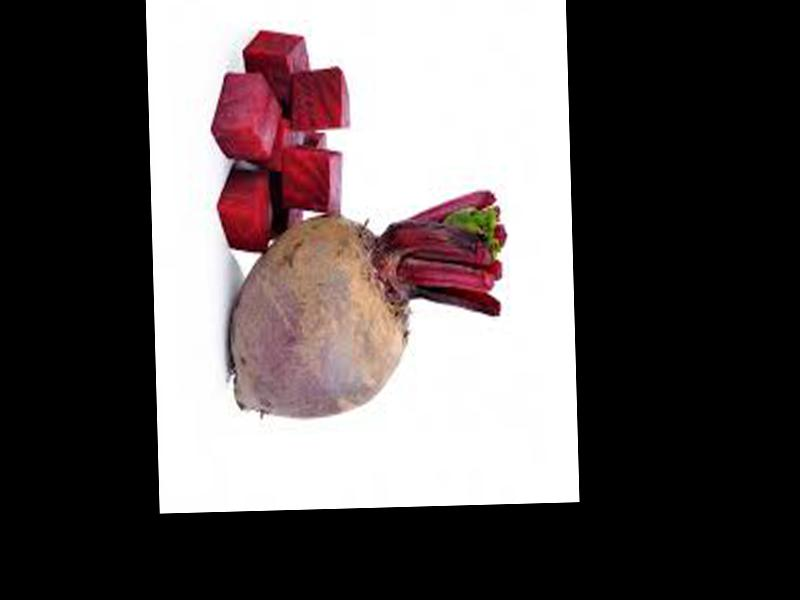Beet: (224, 190, 509, 419)
